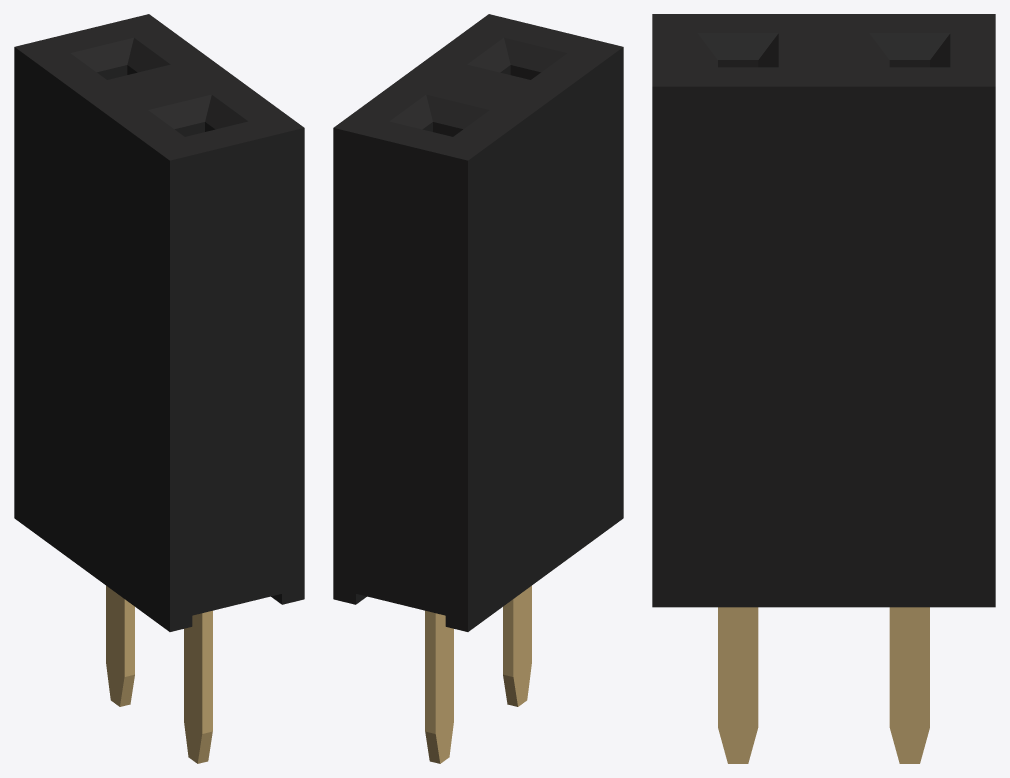
Rendered from PinSocket_1x02_P2.54mm_Vertical.glb.
The picture shows the model from 3 angles, left to right: view 1: azimuth 30°, elevation 25°; view 2: azimuth 150°, elevation 25°; view 3: azimuth 270°, elevation 25°; orthographic projection. The views are drawn at different scales.
Visible parts, largest first — view 1: =>[0:1:1:3]; view 2: =>[0:1:1:3]; view 3: =>[0:1:1:3].
Part boxes in pixels (bbox=[...]): =>[0:1:1:3]: bbox=[14, 14, 304, 763]; =>[0:1:1:3]: bbox=[333, 14, 623, 763]; =>[0:1:1:3]: bbox=[652, 14, 995, 763].
Size of the model in its own units: 0.00254 by 0.0116 by 0.00508.
